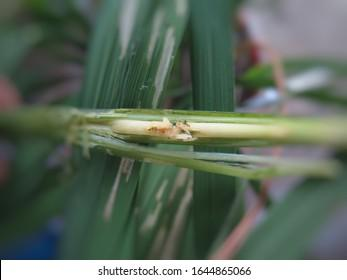insect: (134, 115, 193, 149)
